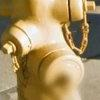Hydrant: (4, 2, 92, 100)
